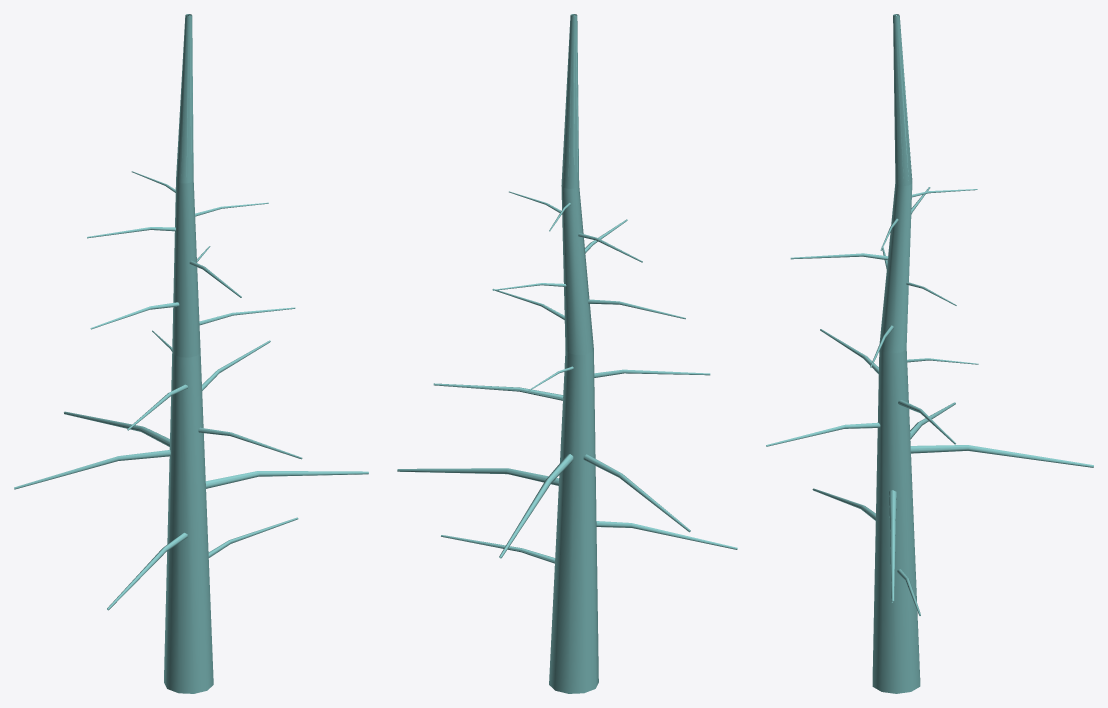
Rendered from TreeBurnt.FBX.
3 views of the same model, side by side, from view 1: azimuth 30°, elevation 25°; view 2: azimuth 150°, elevation 25°; view 3: azimuth 270°, elevation 25° (orthographic).
Parts seen in each view (by area): view 1: furTree_dead_lod0; view 2: furTree_dead_lod0; view 3: furTree_dead_lod0.
Part boxes in pixels (x1,y1,x2,y2): furTree_dead_lod0: (14,14,368,693); furTree_dead_lod0: (397,14,737,693); furTree_dead_lod0: (766,14,1093,693).
Bounding box in the file's own units: 337 × 665 × 296.
